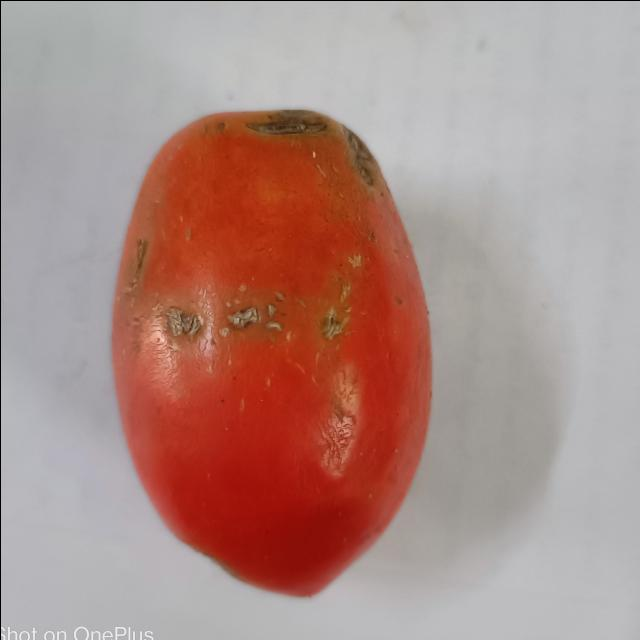Bacterial_Spot: (246, 110, 334, 138), (223, 297, 278, 335), (158, 309, 204, 346), (126, 240, 150, 278), (316, 313, 345, 341)
